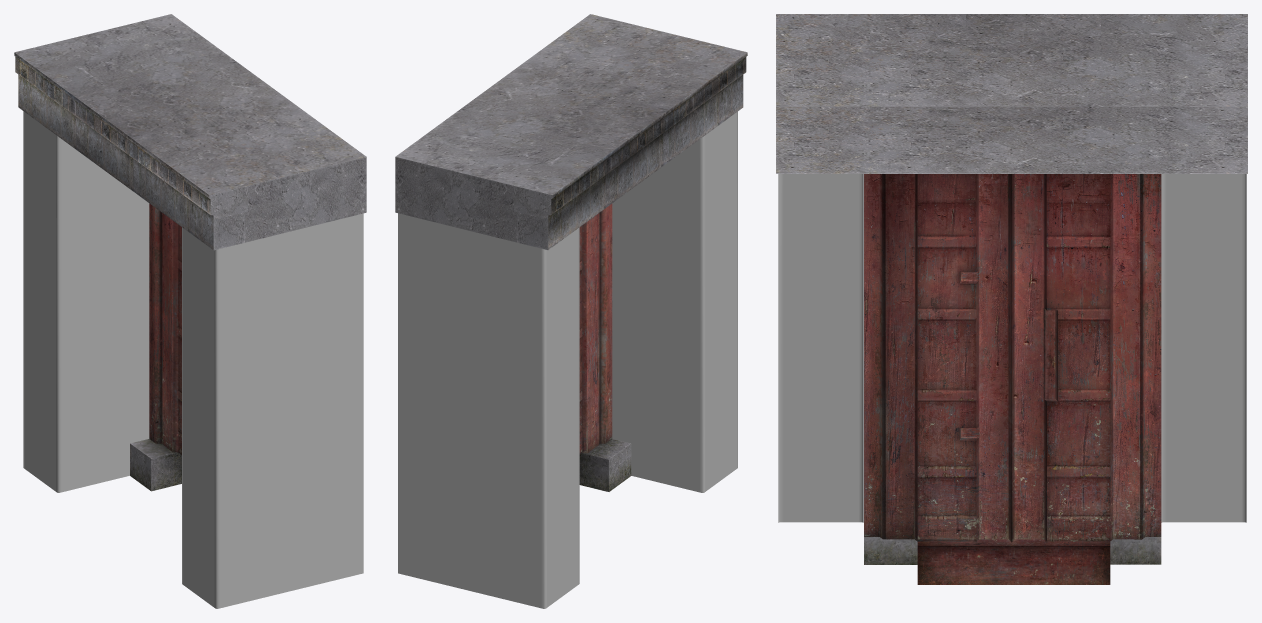
File: SM_AsianDoor.FBX
3 renders of one model, left to right at view 1: azimuth 30°, elevation 25°; view 2: azimuth 150°, elevation 25°; view 3: azimuth 270°, elevation 25°, orthographic. The views are drawn at different scales.
Parts seen in each view (by area): view 1: SM_AsianDoor; view 2: SM_AsianDoor; view 3: SM_AsianDoor.
Part boxes in pixels (x1=…): SM_AsianDoor: x1=14, y1=14, x2=366, y2=608; SM_AsianDoor: x1=395, y1=14, x2=747, y2=608; SM_AsianDoor: x1=776, y1=14, x2=1247, y2=584.
Size of the model in its own units: 124 by 266 by 313.
